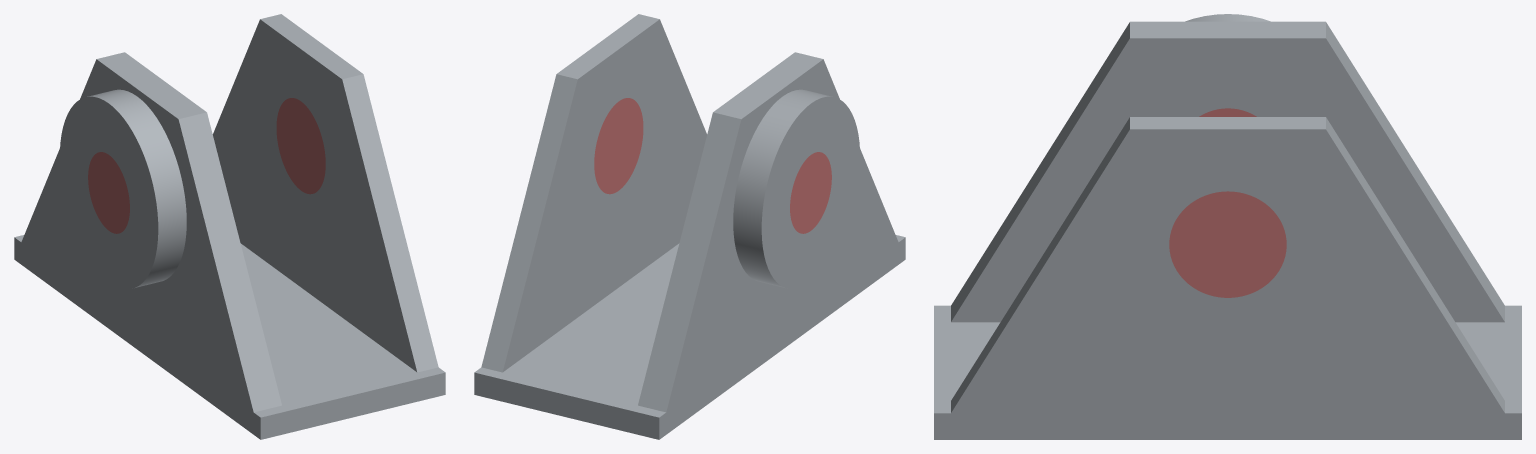
File: step_04.glb
3 renders of one model, left to right at view 1: azimuth 30°, elevation 25°; view 2: azimuth 150°, elevation 25°; view 3: azimuth 270°, elevation 25°, orthographic. The views are drawn at different scales.
Parts seen in each view (by area): view 1: part__Worksheet 13 clevis bracket, removed__Worksheet 13 clevis bracket; view 2: part__Worksheet 13 clevis bracket, removed__Worksheet 13 clevis bracket; view 3: part__Worksheet 13 clevis bracket, removed__Worksheet 13 clevis bracket.
Part boxes in pixels (x1,y1,x2,y2): part__Worksheet 13 clevis bracket: [14, 14, 445, 439]; removed__Worksheet 13 clevis bracket: [88, 98, 325, 233]; part__Worksheet 13 clevis bracket: [474, 14, 905, 439]; removed__Worksheet 13 clevis bracket: [594, 98, 831, 233]; part__Worksheet 13 clevis bracket: [934, 14, 1521, 439]; removed__Worksheet 13 clevis bracket: [1169, 108, 1286, 297].
Size of the model in its own units: 30 by 35 by 60.
